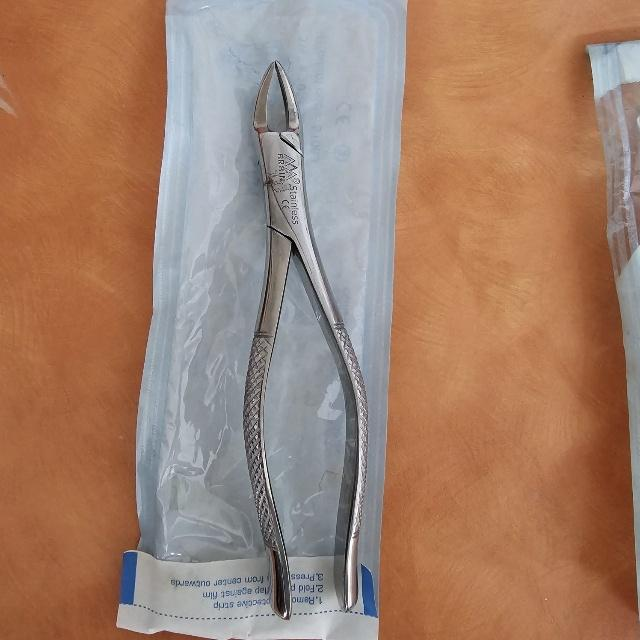forceps: (244, 62, 367, 617)
